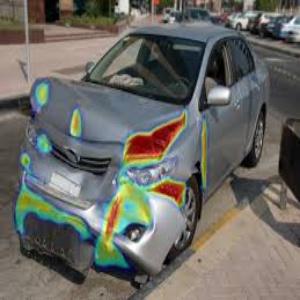bumper: (92, 183, 194, 283)
